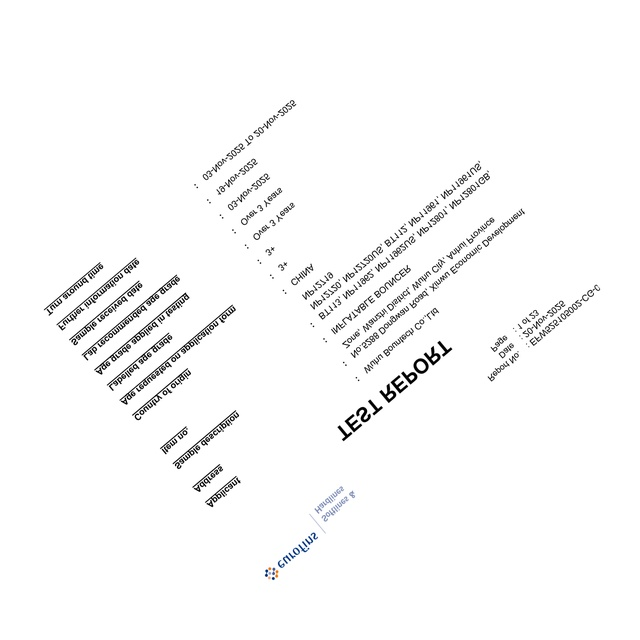eurofins: (262, 528, 320, 582)
